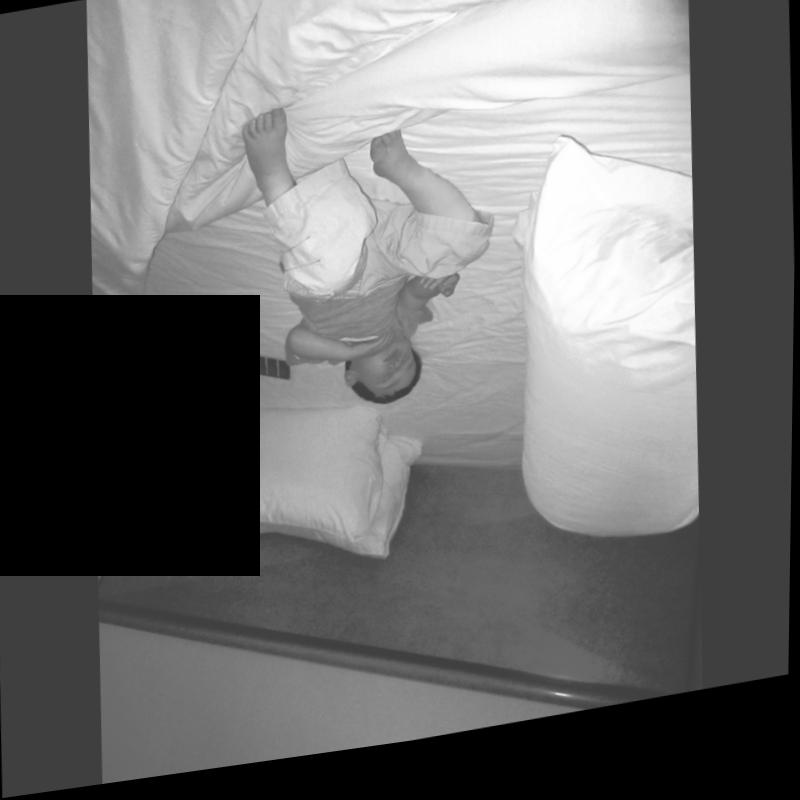pillow: (178, 369, 393, 578)
